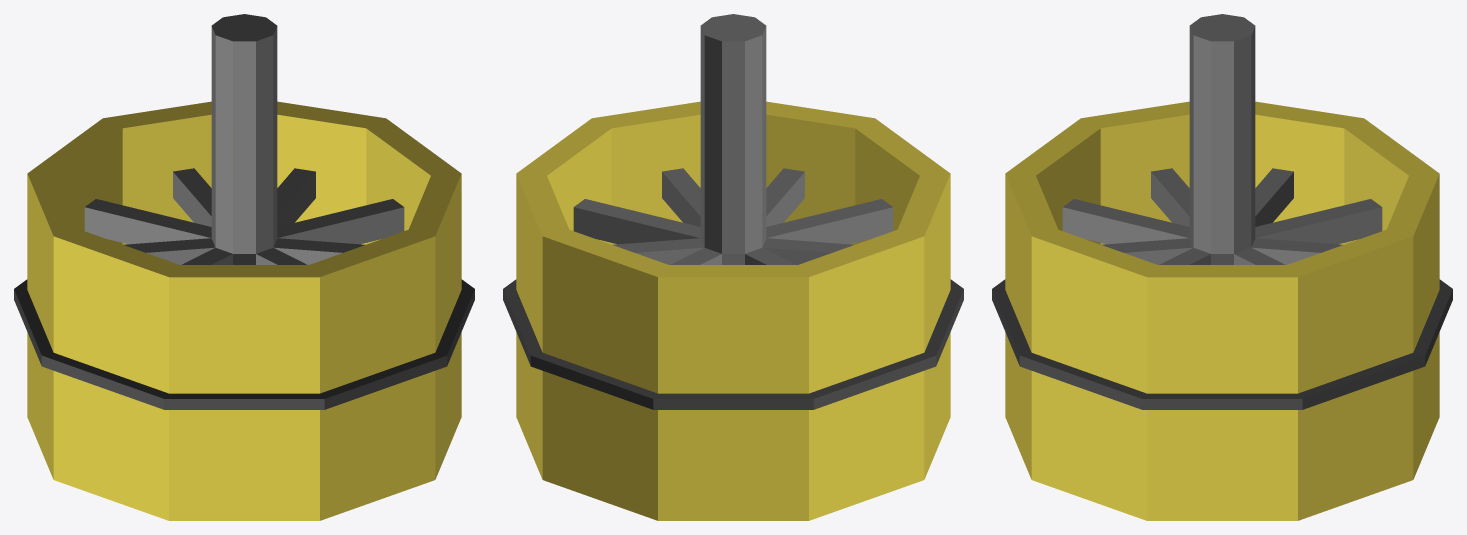
Rendered from Hanging Light 3.fbx.
3 renders of one model, left to right at view 1: azimuth 30°, elevation 25°; view 2: azimuth 150°, elevation 25°; view 3: azimuth 270°, elevation 25°, orthographic.
Parts seen in each view (by area): view 1: Node 0; view 2: Node 0; view 3: Node 0.
Boxes of the visible parts, x1,y1,x2,y2 form: Node 0: (14, 14, 474, 520); Node 0: (503, 14, 963, 520); Node 0: (992, 14, 1452, 520).
Size of the model in its own units: 0.8021 by 0.7782 by 0.79.
